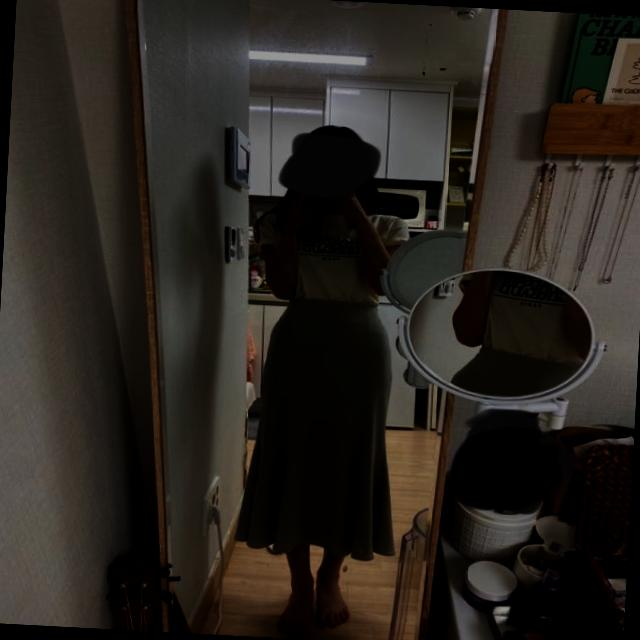shortsleeve: (258, 206, 418, 309)
skirt: (237, 293, 415, 560)
